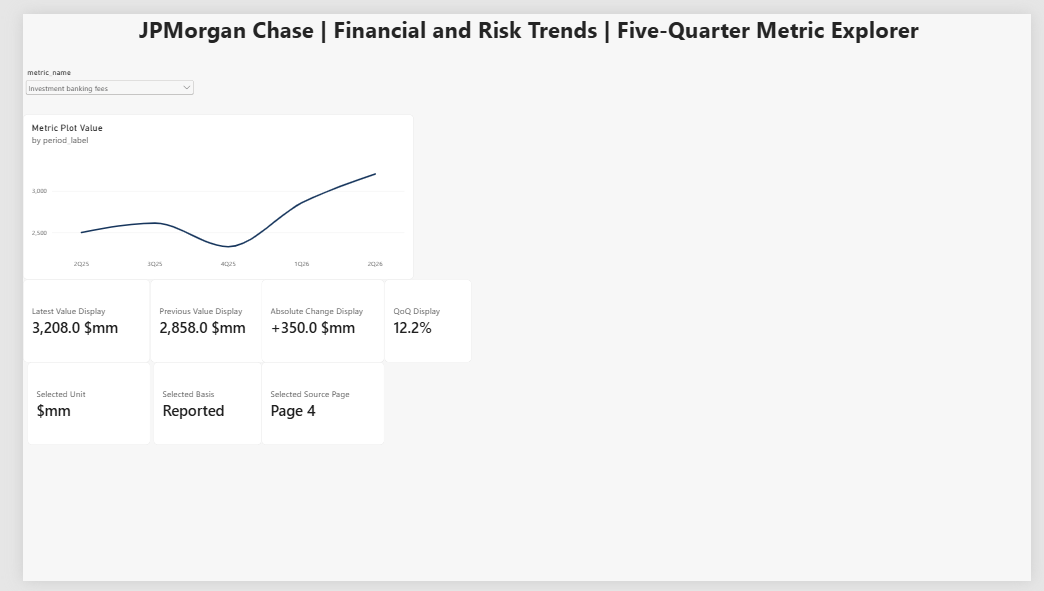

This screenshot's page, from the dashboard's own definition file:
{"tool":"powerbi","page":{"name":"Financial and Risk Trends","canvas":[1920,1080],"ordinal":1},"visuals":[{"type":"textbox","box":[8.9,0,1910.1,82.9],"z":0},{"type":"slicer","fields":{"Values":["dim_metric.metric_name"]},"box":[0,104,330,176],"z":1000},{"type":"lineChart","fields":{"Category":["dim_period.period_label"],"Y":["fact_metric_value.Metric Plot Value"]},"box":[0,192,744,314],"z":2000},{"type":"cardVisual","fields":{"Data":["fact_metric_value.Latest Value Display"]},"box":[0,506,242,158],"z":3000},{"type":"cardVisual","fields":{"Data":["fact_metric_value.Previous Value Display"]},"box":[242,506,234,158],"z":4000},{"type":"cardVisual","fields":{"Data":["fact_metric_value.Absolute Change Display"]},"box":[454,506,234,158],"z":5000},{"type":"cardVisual","fields":{"Data":["fact_metric_value.QoQ Display"]},"box":[688,506,166,158],"z":6000},{"type":"cardVisual","fields":{"Data":["fact_metric_value.Selected Unit"]},"box":[8,664,234,158],"z":7000},{"type":"cardVisual","fields":{"Data":["fact_metric_value.Selected Source Page"]},"box":[454,664,234,158],"z":8000},{"type":"cardVisual","fields":{"Data":["fact_metric_value.Selected Basis"]},"box":[248,664,206,158],"z":9000}]}

Visuals, with their boxes in screenshot pixels (x1, y1, x2, y2), scaled from the page's 1920x1080 canvas onto the 1044x591 screenshot:
textbox: {"x1": 5, "y1": 0, "x2": 1043, "y2": 45}
slicer - dim_metric.metric_name: {"x1": 0, "y1": 57, "x2": 179, "y2": 153}
lineChart - dim_period.period_label x fact_metric_value.Metric Plot Value: {"x1": 0, "y1": 105, "x2": 405, "y2": 277}
cardVisual - fact_metric_value.Latest Value Display: {"x1": 0, "y1": 277, "x2": 132, "y2": 363}
cardVisual - fact_metric_value.Previous Value Display: {"x1": 132, "y1": 277, "x2": 259, "y2": 363}
cardVisual - fact_metric_value.Absolute Change Display: {"x1": 247, "y1": 277, "x2": 374, "y2": 363}
cardVisual - fact_metric_value.QoQ Display: {"x1": 374, "y1": 277, "x2": 464, "y2": 363}
cardVisual - fact_metric_value.Selected Unit: {"x1": 4, "y1": 363, "x2": 132, "y2": 450}
cardVisual - fact_metric_value.Selected Source Page: {"x1": 247, "y1": 363, "x2": 374, "y2": 450}
cardVisual - fact_metric_value.Selected Basis: {"x1": 135, "y1": 363, "x2": 247, "y2": 450}
